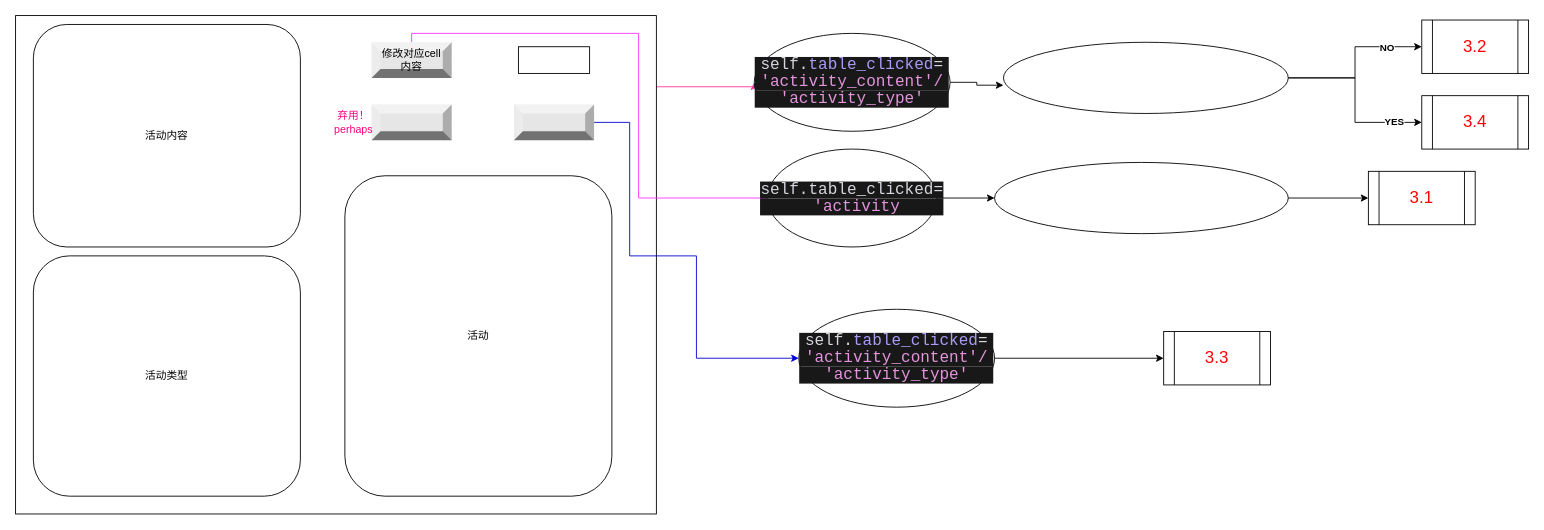
Some shapes in this 1544 by 530 pixel diagram are drawn without their labels. Here are the shapes that lost their labels. From the top down, the centre of each, then its label:
At (x=554, y=59): "输入框".
At (x=1145, y=77): "self.click_column_name=？ location（基于内容） location（基于类型）".
At (x=411, y=122): "新建行".
At (x=554, y=122): "删除对应行".
At (x=1141, y=198): "self.click_column_name= location（基于内容） location（基于类型）".
